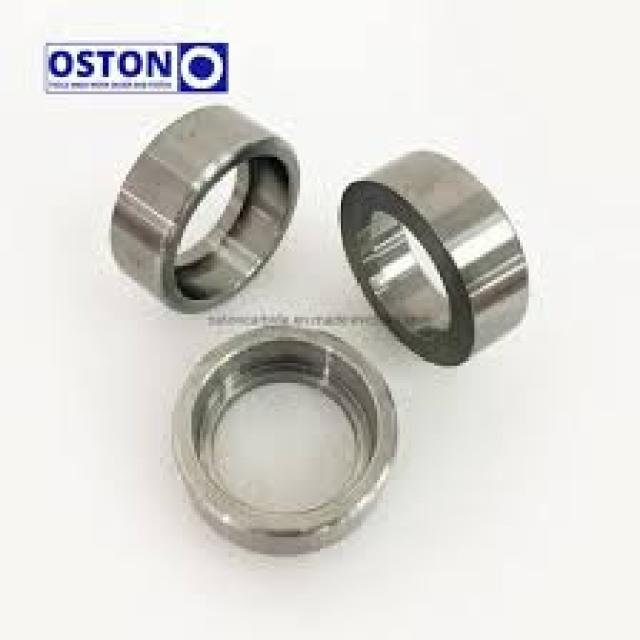Turning: (160, 326, 427, 582), (85, 94, 318, 318), (336, 127, 547, 373)
